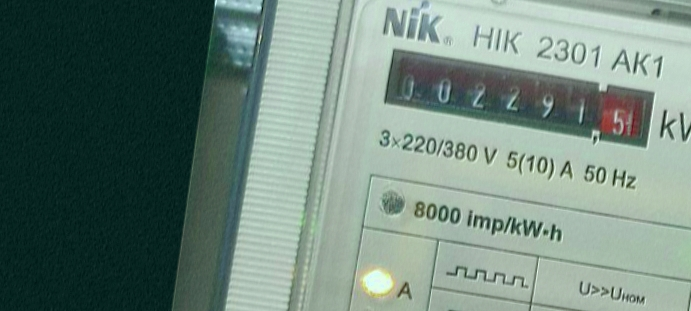0: (395, 69, 417, 100), (432, 74, 452, 105)
1: (569, 93, 588, 128)
2: (467, 79, 487, 110), (502, 82, 520, 113)
5: (607, 105, 627, 137)
9: (535, 89, 555, 121)
screen: (375, 42, 660, 156)
